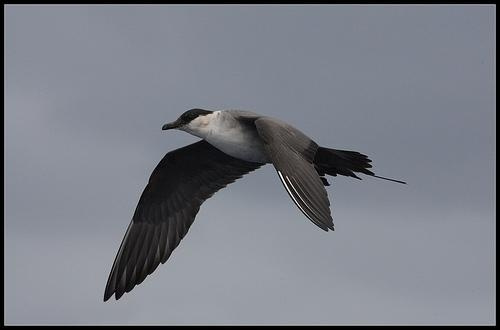bird: (94, 105, 397, 300)
